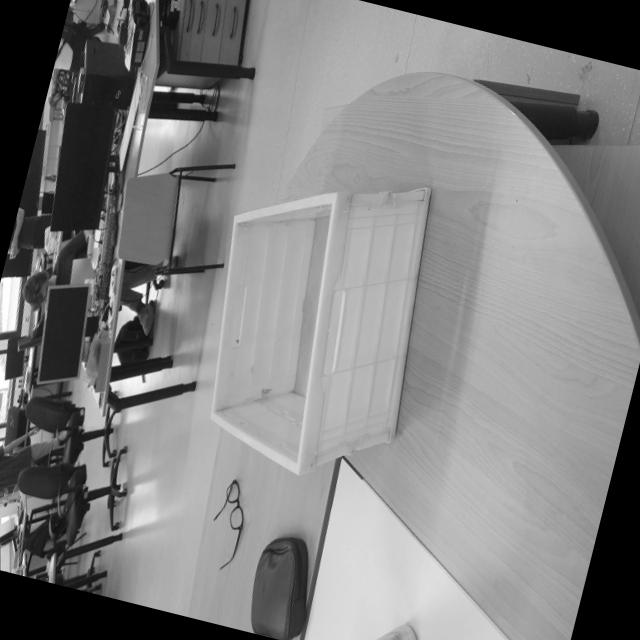box: (166, 136, 468, 507)
